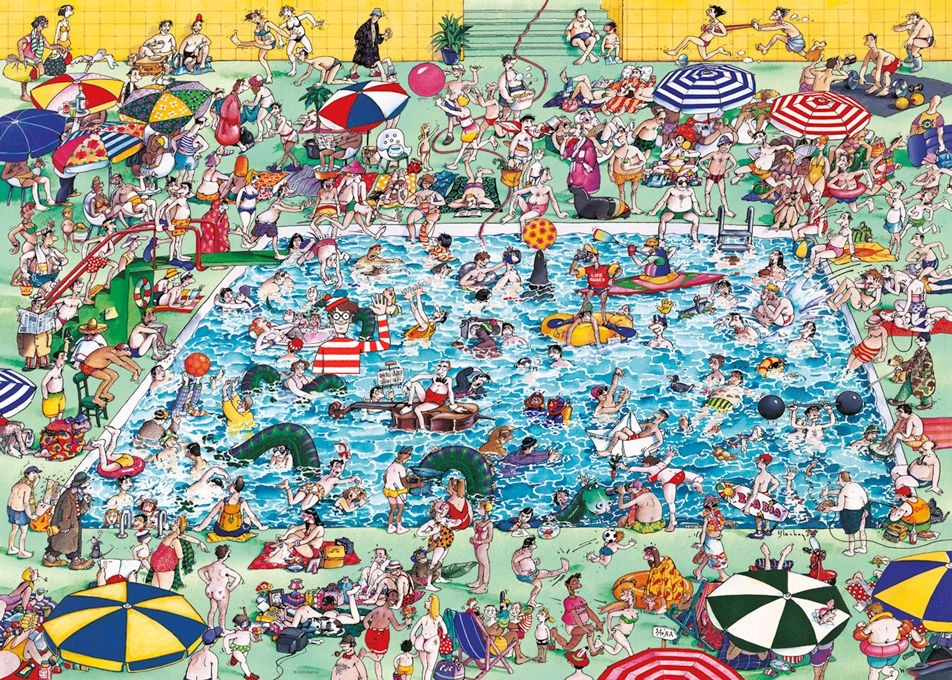waldo: (311, 293, 391, 374)
